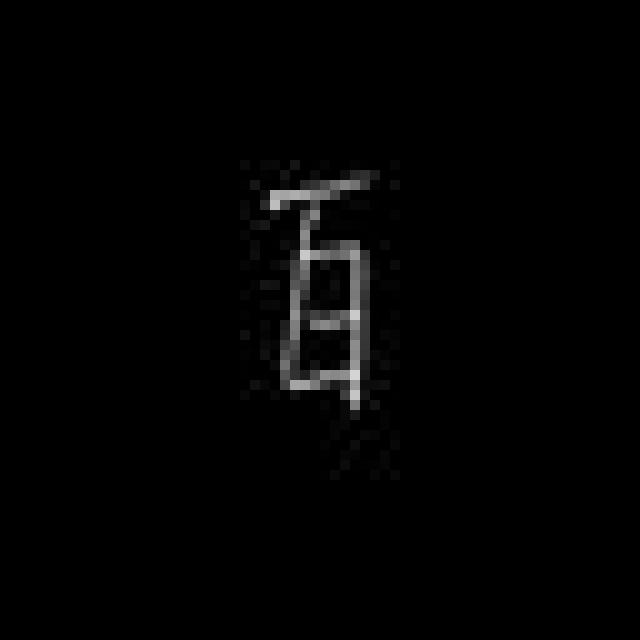100 -a hundred-: (249, 159, 384, 419)
